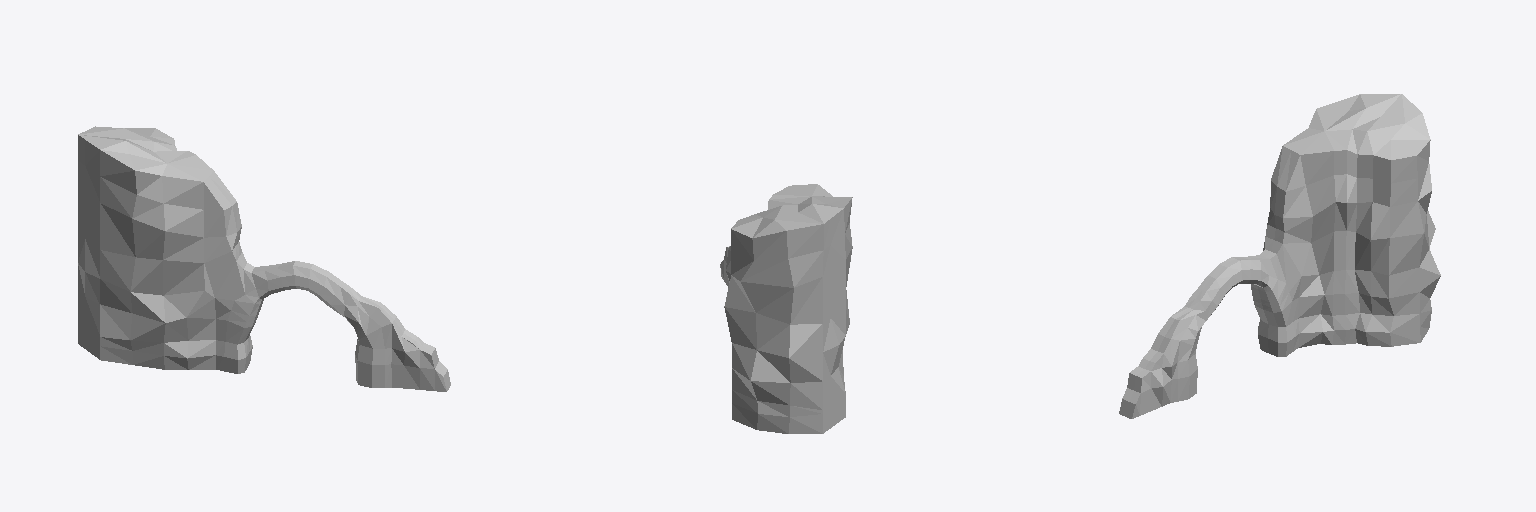
File: Overpass.obj
3 renders of one model, left to right at view 1: azimuth 30°, elevation 25°; view 2: azimuth 150°, elevation 25°; view 3: azimuth 270°, elevation 25°, orthographic.
Parts seen in each view (by area): view 1: Overpass_large; view 2: Overpass_large; view 3: Overpass_large.
Part boxes in pixels (bbox=[...]): Overpass_large: bbox=[78, 126, 450, 391]; Overpass_large: bbox=[720, 184, 852, 433]; Overpass_large: bbox=[1119, 94, 1440, 418].
Bounding box in the file's own units: 19.86 × 16.49 × 22.88.